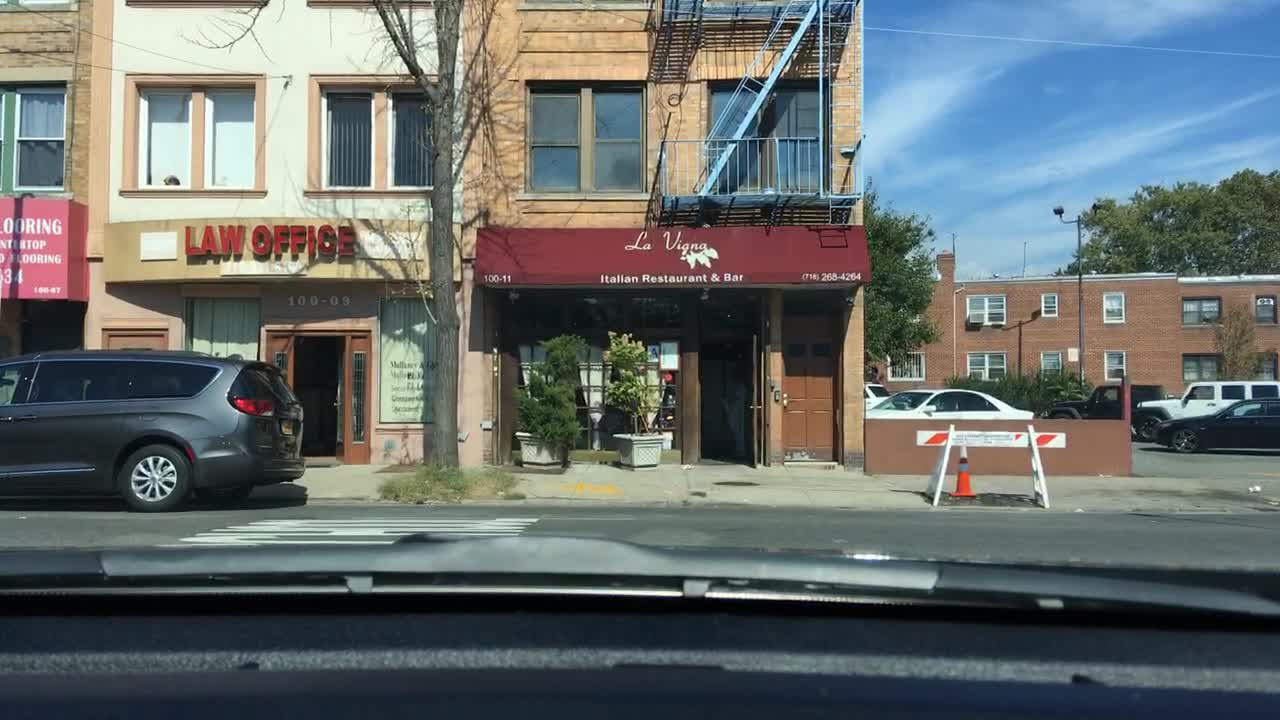car: (1, 351, 307, 513), (1135, 381, 1279, 444), (1029, 383, 1164, 444), (1156, 390, 1279, 453), (868, 387, 1033, 421), (862, 381, 887, 409)
